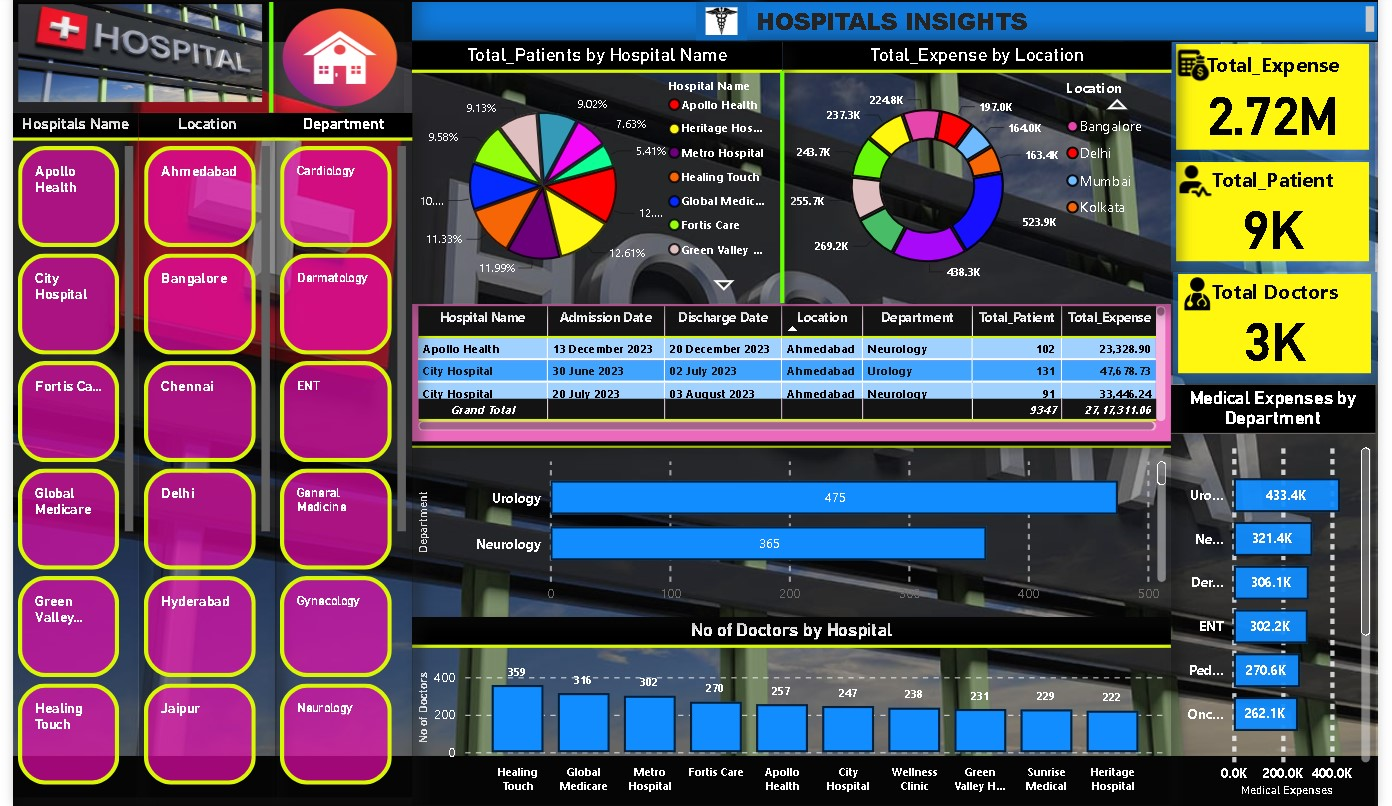

The dashboard page shown, as its layout file describes it:
{"tool":"powerbi","page":{"name":"Page 1","canvas":[1282,761],"ordinal":0},"visuals":[{"type":"textbox","box":[374.9,5.9,907.1,36.4],"z":0},{"type":"cardVisual","fields":{"Data":["Hospital_data.Total_Expense"]},"box":[1088.2,43.3,191.9,111.2],"z":1000},{"type":"cardVisual","fields":{"Data":["Hospital_data.Total_Patient"]},"box":[1087.9,154.1,191.7,105.2],"z":3000},{"type":"columnChart","fields":{"Category":["Hospital_data.Hospital Name"],"Y":["Sum(Hospital_data.Doctors Count)"]},"box":[374.9,583.4,713.3,177.1],"z":4000},{"type":"clusteredBarChart","fields":{"Category":["Hospital_data.Department"],"Y":["Sum(Hospital_data.Doctors Count)"]},"box":[374.9,396.5,713.3,186.9],"z":5000},{"type":"clusteredBarChart","fields":{"Category":["Hospital_data.Department"],"Y":["Sum(Hospital_data.Medical Expenses)"]},"box":[1088.2,365,191.9,395.5],"z":6000},{"type":"advancedSlicerVisual","title":"Hospitals Name","fields":{"Values":["Hospital_data.Hospital Name"]},"box":[0,110.2,118.1,643.5],"z":7000},{"type":"tableEx","fields":{"Values":["Hospital_data.Hospital Name","Hospital_data.Admission Date","Hospital_data.Discharge Date","Hospital_data.Location","Hospital_data.Department","Hospital_data.Total_Patient","Hospital_data.Total_Expense"]},"box":[374.9,289.3,713.3,128.9],"z":8000},{"type":"donutChart","fields":{"Category":["Hospital_data.Location"],"Y":["Hospital_data.Total_Expense"]},"box":[723.2,43.3,365,246],"z":9000},{"type":"pieChart","title":"Total_Patients by Hospital Name","fields":{"Category":["Hospital_data.Hospital Name"],"Y":["Hospital_data.Total_Patient"]},"box":[374.9,43.3,348.3,246],"z":10000},{"type":"advancedSlicerVisual","title":"Location","fields":{"Values":["Hospital_data.Location"]},"box":[118.1,110.2,128.9,643.5],"z":11000},{"type":"advancedSlicerVisual","fields":{"Values":["Hospital_data.Department"]},"box":[246,110.2,128.9,643.5],"z":12000},{"type":"image","box":[641.5,5.9,48.2,36.4],"z":13000},{"type":"image","box":[0,5.9,239.1,104.3],"z":14000},{"type":"image","box":[247,5.9,120,104.3],"z":15000},{"type":"shape","box":[226.3,5.9,32.5,104.3],"z":16000},{"type":"cardVisual","fields":{"Data":["Sum(Hospital_data.Doctors Count)"]},"box":[1090.1,259.7,191.9,105.3],"z":16001},{"type":"image","box":[1086.2,45.3,46.2,40.3],"z":16002},{"type":"image","box":[1088.2,154.5,46.2,40.3],"z":16003},{"type":"image","box":[1084.2,259.7,57.1,41.3],"z":16004},{"type":"shape","box":[706.4,70.8,32.5,218.4],"z":16005}]}

Visuals, with their boxes in screenshot pixels (x1, y1, x2, y2), scaled from the page's 1282x761 canvas onto the 1392x806 screenshot:
textbox: bbox(407, 6, 1391, 45)
cardVisual - Hospital_data.Total_Expense: bbox(1182, 46, 1390, 164)
cardVisual - Hospital_data.Total_Patient: bbox(1181, 163, 1389, 275)
columnChart - Hospital_data.Hospital Name x Sum(Hospital_data.Doctors Count): bbox(407, 618, 1182, 805)
clusteredBarChart - Hospital_data.Department x Sum(Hospital_data.Doctors Count): bbox(407, 420, 1182, 618)
clusteredBarChart - Hospital_data.Department x Sum(Hospital_data.Medical Expenses): bbox(1182, 387, 1390, 805)
"Hospitals Name" advancedSlicerVisual: bbox(0, 117, 128, 798)
tableEx - Hospital_data.Hospital Name x Hospital_data.Admission Date: bbox(407, 306, 1182, 443)
donutChart - Hospital_data.Location x Hospital_data.Total_Expense: bbox(785, 46, 1182, 306)
"Total_Patients by Hospital Name" pieChart: bbox(407, 46, 785, 306)
"Location" advancedSlicerVisual: bbox(128, 117, 268, 798)
advancedSlicerVisual - Hospital_data.Department: bbox(267, 117, 407, 798)
image: bbox(697, 6, 749, 45)
image: bbox(0, 6, 260, 117)
image: bbox(268, 6, 398, 117)
shape: bbox(246, 6, 281, 117)
cardVisual - Sum(Hospital_data.Doctors Count): bbox(1184, 275, 1391, 387)
image: bbox(1179, 48, 1230, 91)
image: bbox(1182, 164, 1232, 206)
image: bbox(1177, 275, 1239, 319)
shape: bbox(767, 75, 802, 306)
